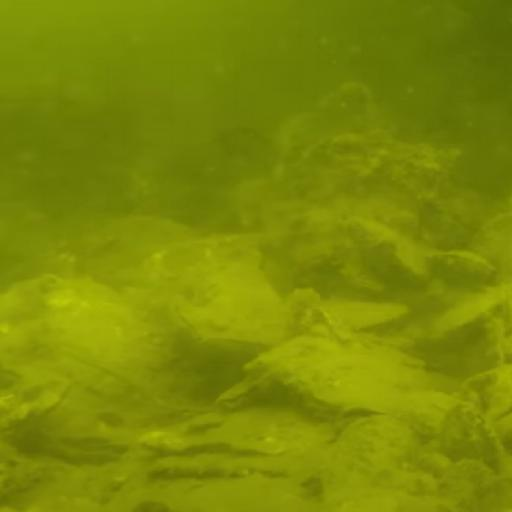Oyster-Closed: (252, 329, 434, 423), (157, 252, 293, 355)
